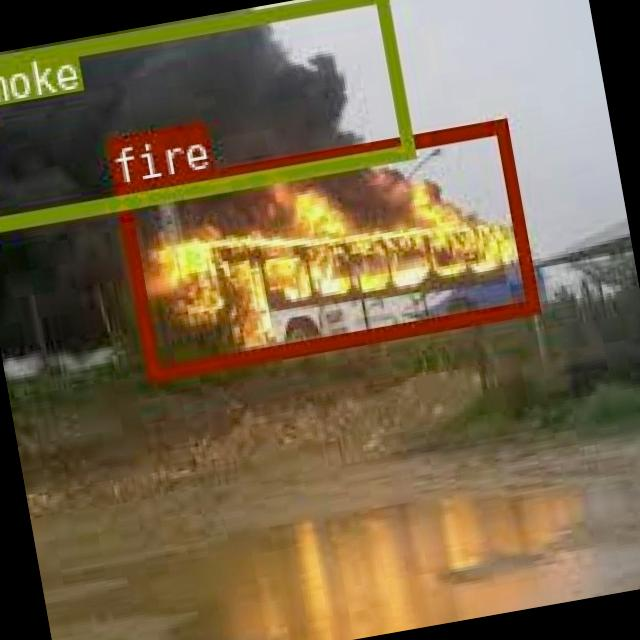fire: (113, 118, 536, 378)
smoke: (0, 0, 413, 230)
